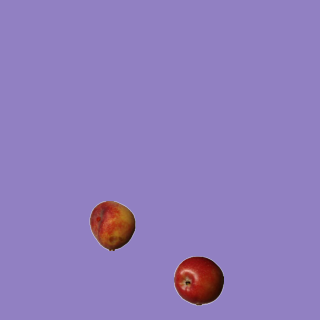Apple Braeburn: (173, 255, 223, 305)
Peach: (87, 200, 137, 250)
